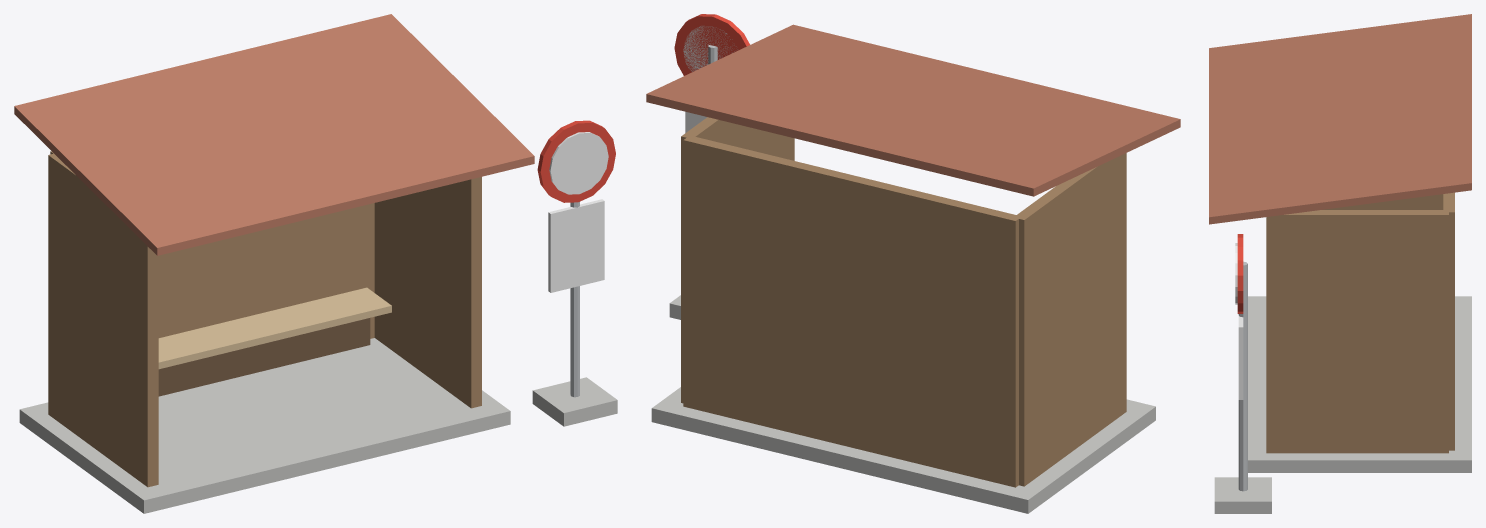
File: bus_stop.glb
3 views of the same model, side by side, from view 1: azimuth 30°, elevation 25°; view 2: azimuth 150°, elevation 25°; view 3: azimuth 270°, elevation 25° (orthographic). The views are drawn at different scales.
Parts seen in each view (by area): view 1: bus_stop; view 2: bus_stop; view 3: bus_stop.
Boxes of the visible parts, bbox=[...] form: bus_stop: bbox=[14, 14, 617, 513]; bus_stop: bbox=[646, 14, 1180, 513]; bus_stop: bbox=[1209, 14, 1471, 513].
Bounding box in the file's own units: 4.4 × 2.82 × 2.3.
